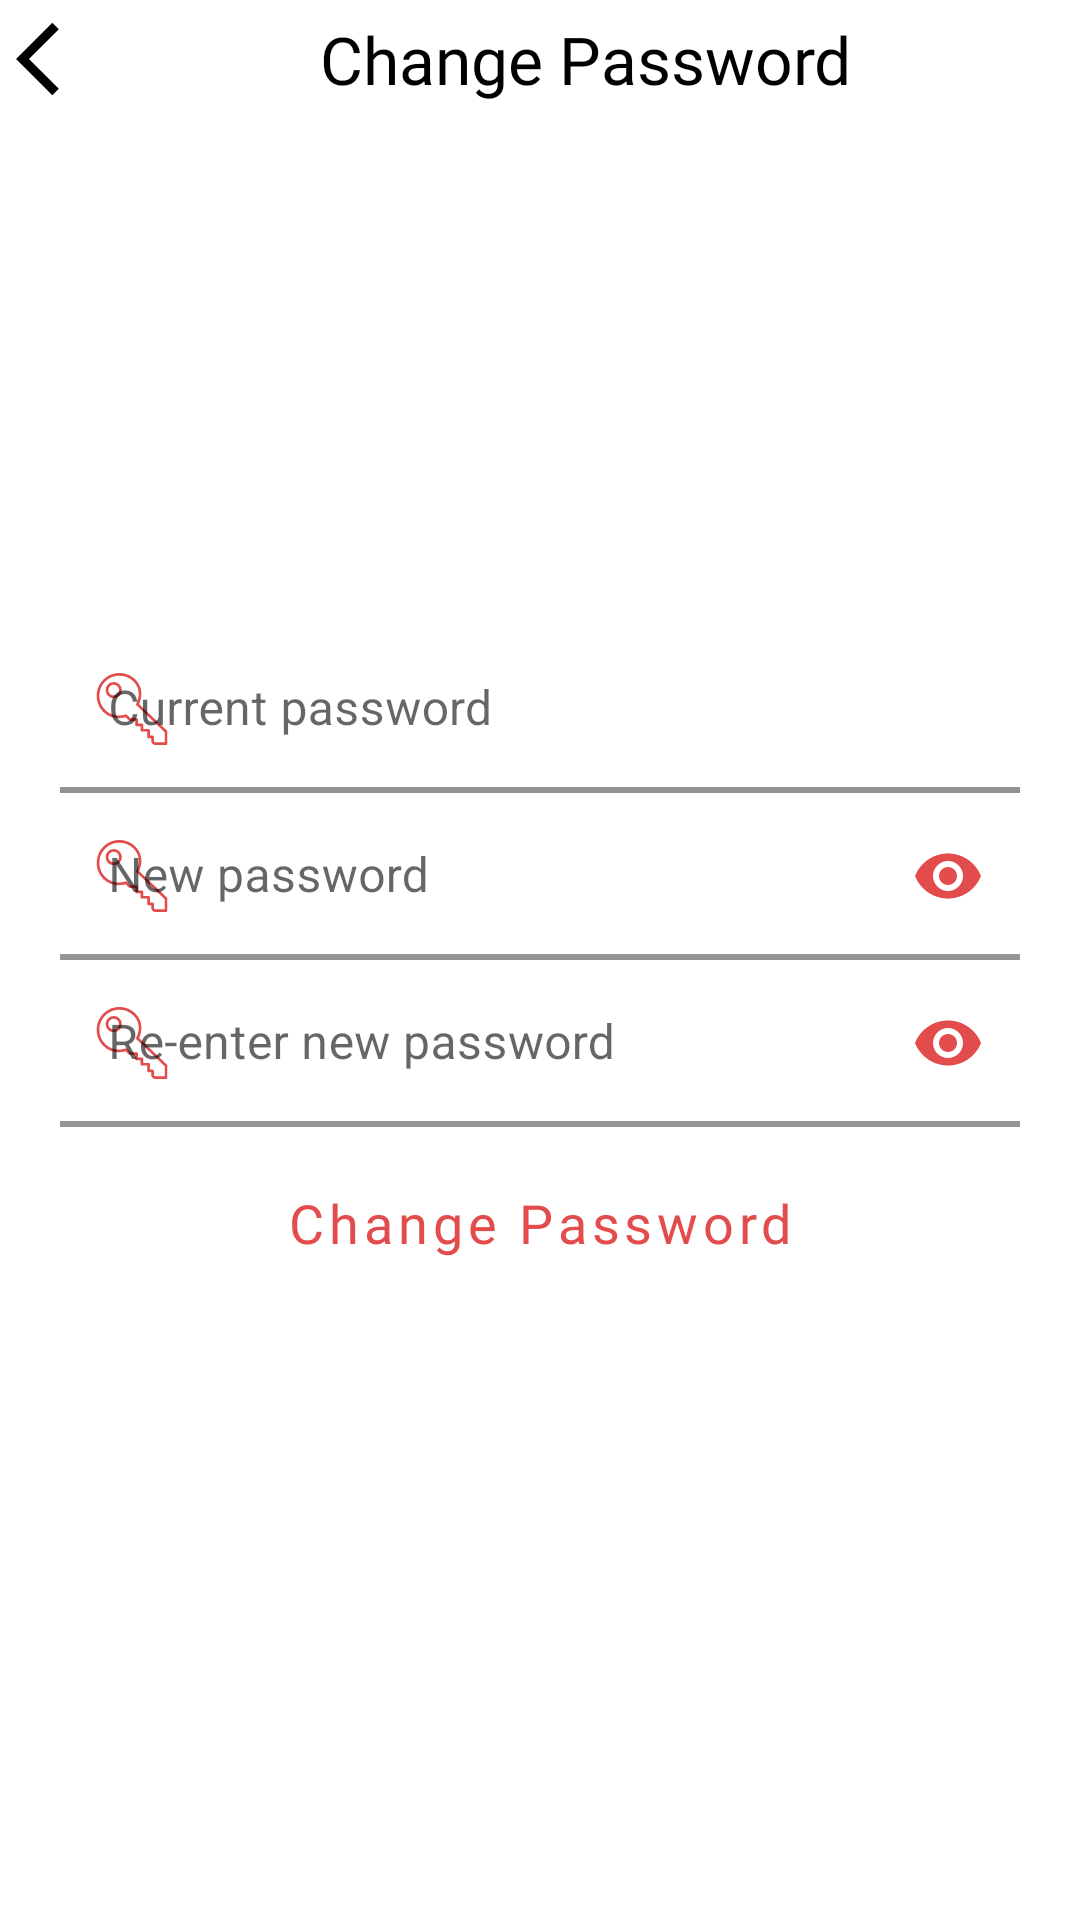

Named icons in this screenshot (1080px×1920px) and their centers, point (x, y):
back arrow: point (37, 59)
